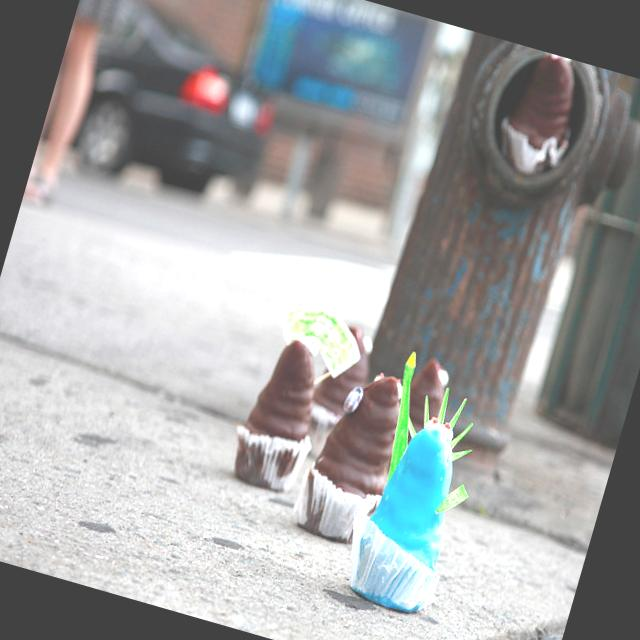Vehicle: (63, 0, 299, 213)
